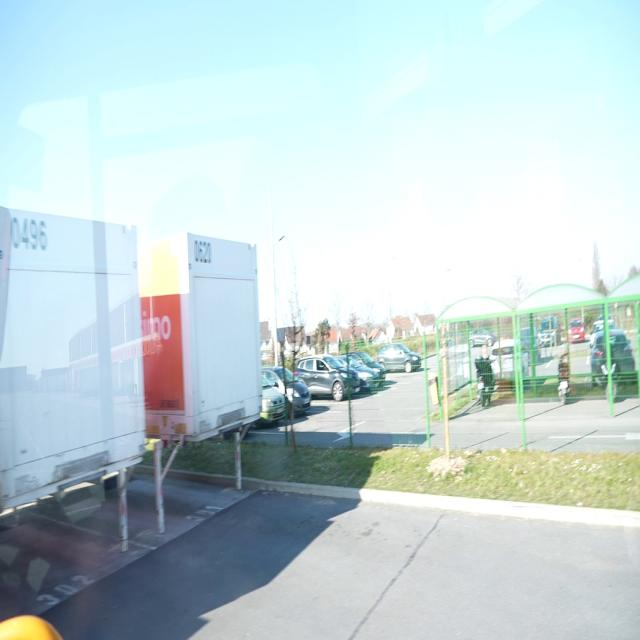Code: (4, 209, 50, 256)
